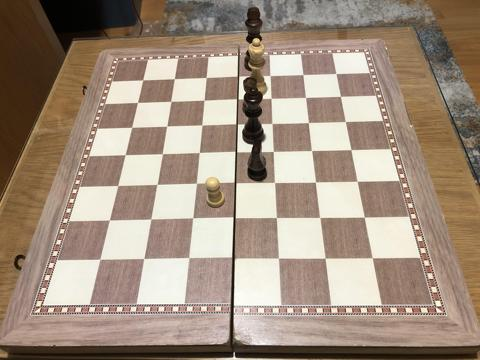xcorner: (265, 93, 278, 106), (228, 213, 241, 226), (330, 68, 343, 80), (168, 74, 180, 87), (197, 96, 210, 108), (303, 117, 315, 130), (267, 118, 279, 131), (346, 144, 358, 157), (307, 145, 319, 158), (268, 146, 280, 159), (230, 147, 242, 160), (192, 148, 205, 160), (118, 150, 131, 162), (310, 177, 323, 189), (229, 178, 241, 191), (189, 179, 202, 191), (271, 213, 284, 225), (144, 215, 157, 227), (103, 215, 115, 228), (320, 252, 332, 265), (273, 253, 286, 265), (228, 253, 240, 266), (182, 254, 195, 266), (297, 70, 309, 82), (264, 71, 276, 83), (232, 72, 244, 84), (200, 73, 212, 85), (136, 76, 148, 88), (335, 91, 347, 103), (300, 92, 312, 104), (231, 95, 243, 107), (164, 97, 176, 109), (131, 98, 143, 110), (340, 116, 352, 128), (231, 120, 243, 132), (195, 121, 207, 133), (160, 122, 172, 134), (125, 123, 137, 135), (155, 149, 167, 161), (352, 176, 364, 188), (270, 178, 282, 190), (150, 180, 162, 192), (111, 181, 123, 193), (359, 212, 371, 224), (315, 212, 327, 224), (186, 214, 198, 226), (367, 252, 379, 264), (138, 254, 150, 266), (94, 255, 106, 267)
